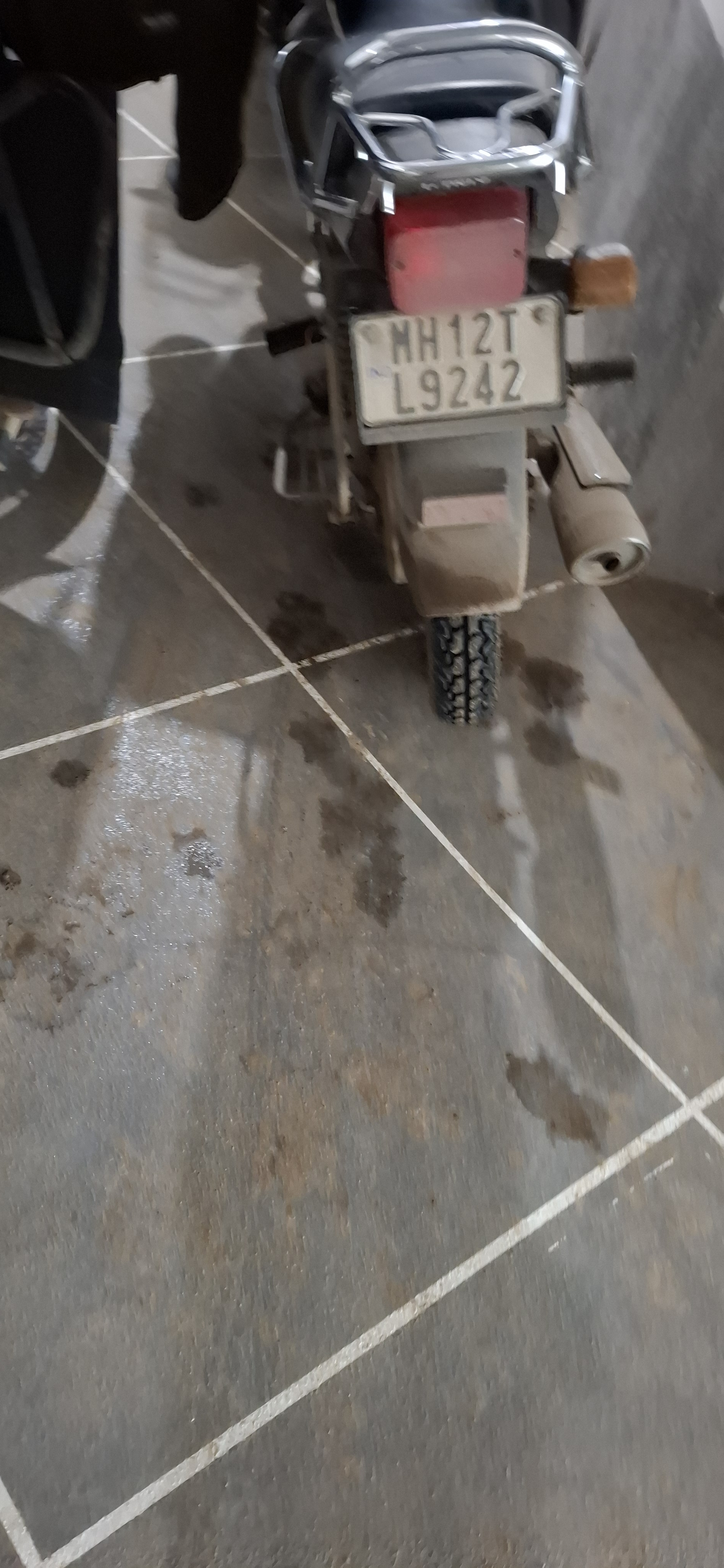license_plate: (268, 3, 647, 632)
